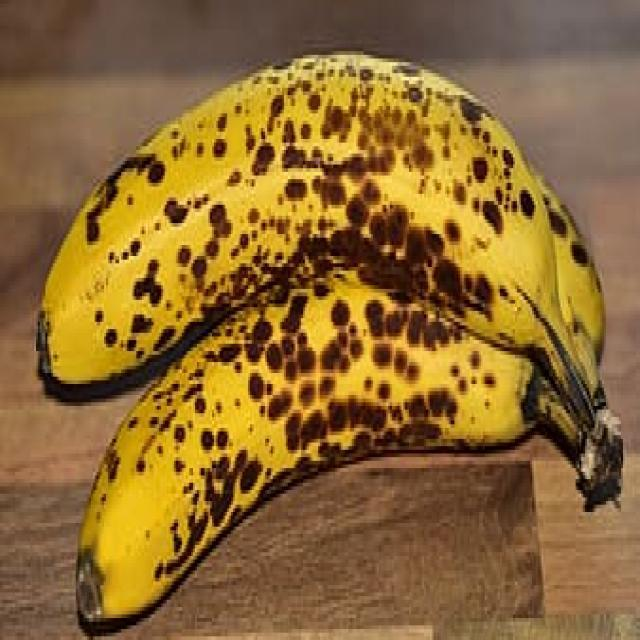Banana: (32, 42, 627, 640)
